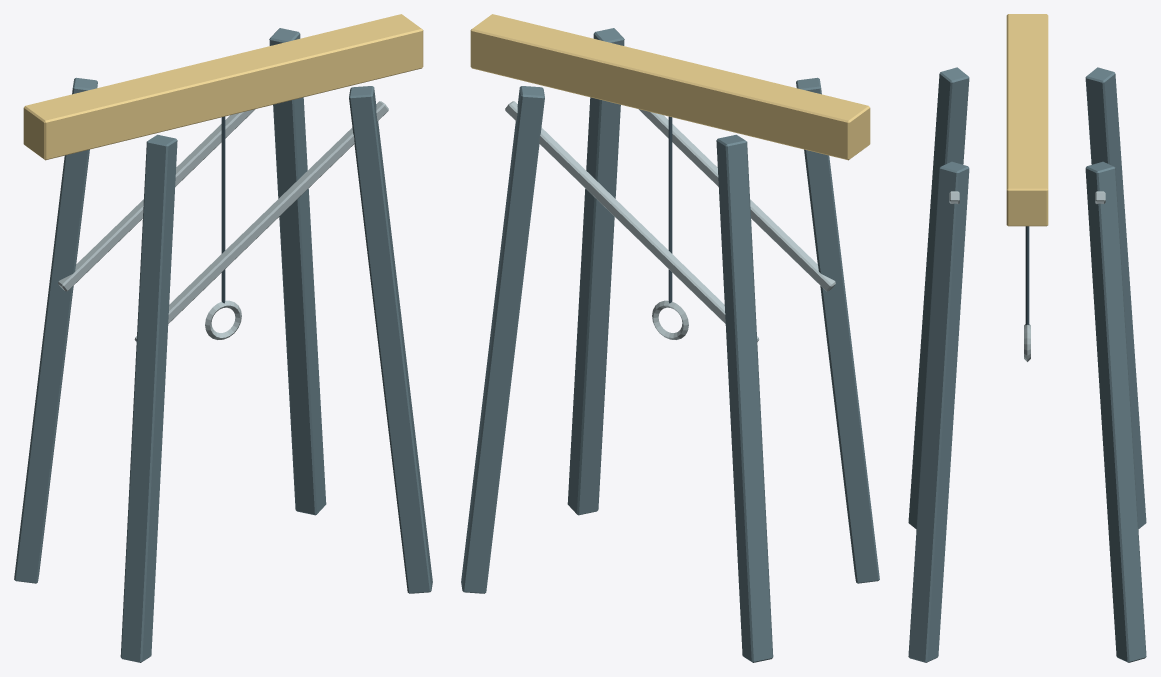
Rendered from crane.glb.
3 renders of one model, left to right at view 1: azimuth 30°, elevation 25°; view 2: azimuth 150°, elevation 25°; view 3: azimuth 270°, elevation 25°, orthographic. The views are drawn at different scales.
Parts seen in each view (by area): view 1: asset_crane__FP_Armour, gantry, asset_crane__FP_Steel, cable; view 2: asset_crane__FP_Armour, gantry, asset_crane__FP_Steel, cable; view 3: asset_crane__FP_Armour, gantry, asset_crane__FP_Steel, cable.
Part boxes in pixels (x1=…): asset_crane__FP_Armour: x1=14, y1=28, x2=432, y2=662; gantry: x1=23, y1=14, x2=423, y2=160; asset_crane__FP_Steel: x1=58, y1=101, x2=388, y2=341; cable: x1=221, y1=116, x2=225, y2=303; asset_crane__FP_Armour: x1=461, y1=28, x2=879, y2=662; gantry: x1=470, y1=14, x2=870, y2=160; asset_crane__FP_Steel: x1=505, y1=101, x2=835, y2=341; cable: x1=668, y1=116, x2=672, y2=303; asset_crane__FP_Armour: x1=908, y1=67, x2=1146, y2=662; gantry: x1=1006, y1=14, x2=1048, y2=226; asset_crane__FP_Steel: x1=949, y1=191, x2=1105, y2=361; cable: x1=1025, y1=226, x2=1029, y2=324.
Bounding box in the file's own units: 4 × 5.21 × 2.29.
